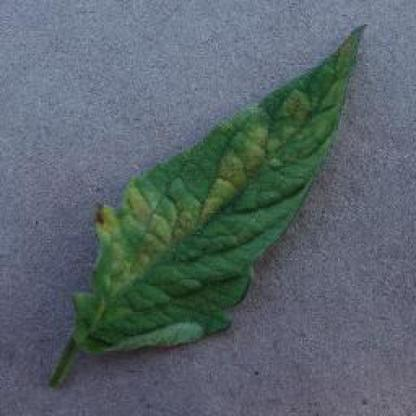Tomato_Leaf_Mold: (74, 23, 366, 355)
